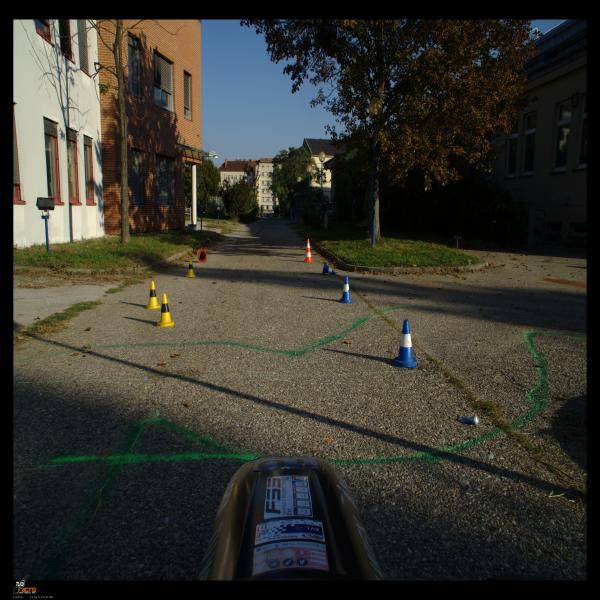blue_cone: (391, 319, 418, 369), (338, 276, 354, 303), (321, 262, 336, 275)
large_orange_cone: (304, 238, 314, 263), (197, 249, 207, 263)
yellow_cone: (156, 293, 174, 328), (145, 280, 162, 309), (185, 258, 196, 278)
